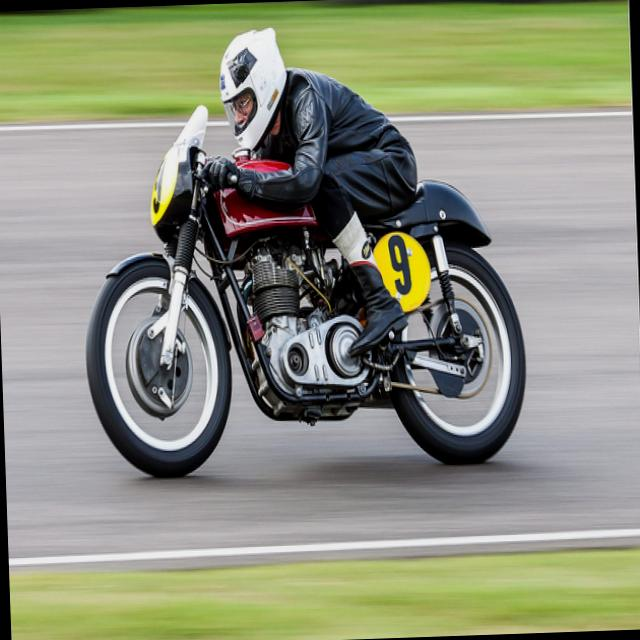Vehicle: (77, 91, 529, 483)
